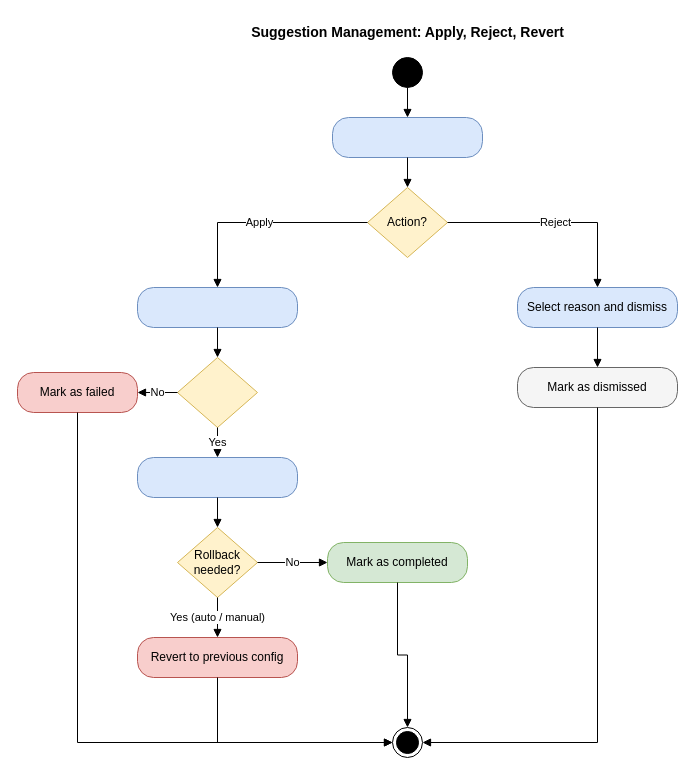
Image size: 695x775. Some labels were removed from this diagram. The centre of each missing label's shape, as x and y in pixels:
Confirm and apply change: point (217, 307)
Monitor change: point (217, 477)
Review suggestion: point (407, 137)
Success?: point (217, 392)
